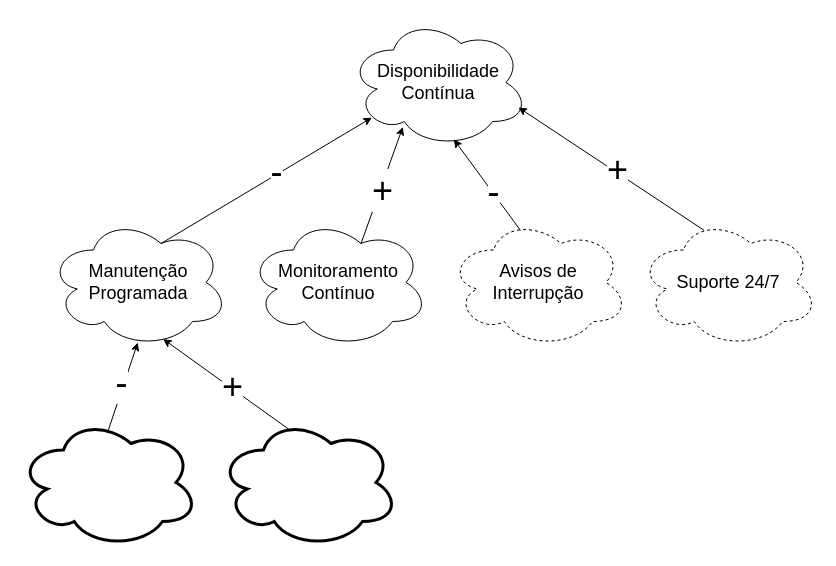
Some shapes in this 836 by 566 pixel diagram are drawn without their labels. The shapes that lost their labels are listed below. From the top down, each one's centre as x and y in pixels, then its label:
At point (108, 482): "Programação regular de manutenção".
At point (308, 482): "Comunicação antecipada com os usuários".
